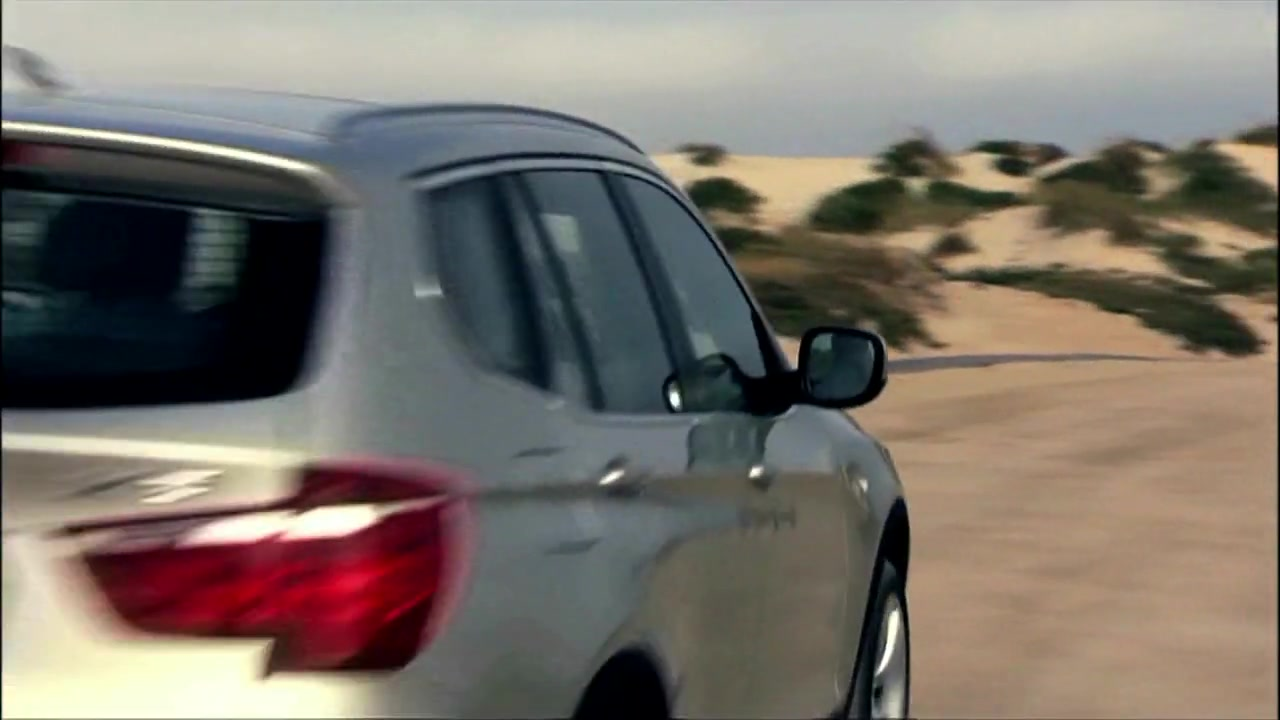car: (4, 78, 916, 720)
